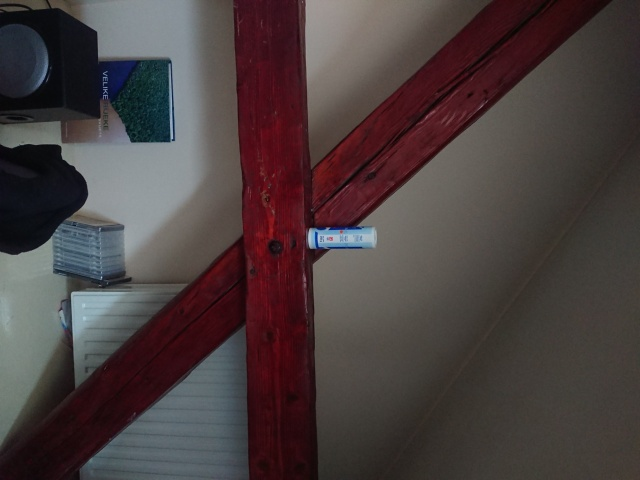Solana Pag Fine Sea Salt 250g: (304, 224, 380, 251)
